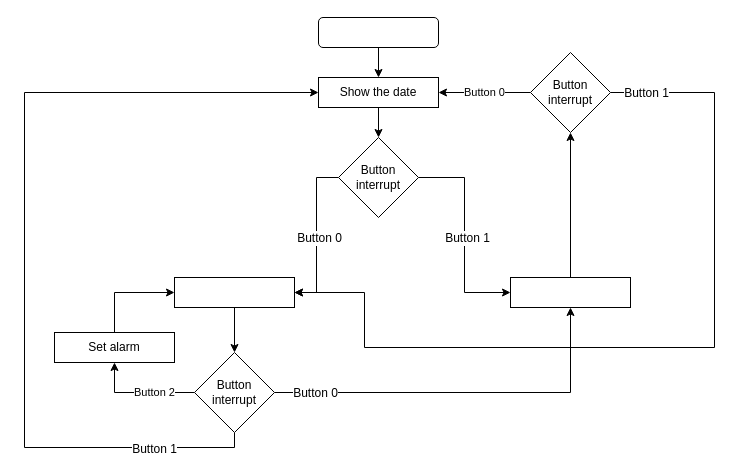
Some shapes in this 740 by 473 pixel diagram are drawn without their labels. Each missing label, with the box of its shape:
Show sensors: (510, 276, 630, 308)
Show the alarm: (174, 276, 294, 308)
Turn on: (318, 16, 438, 48)
